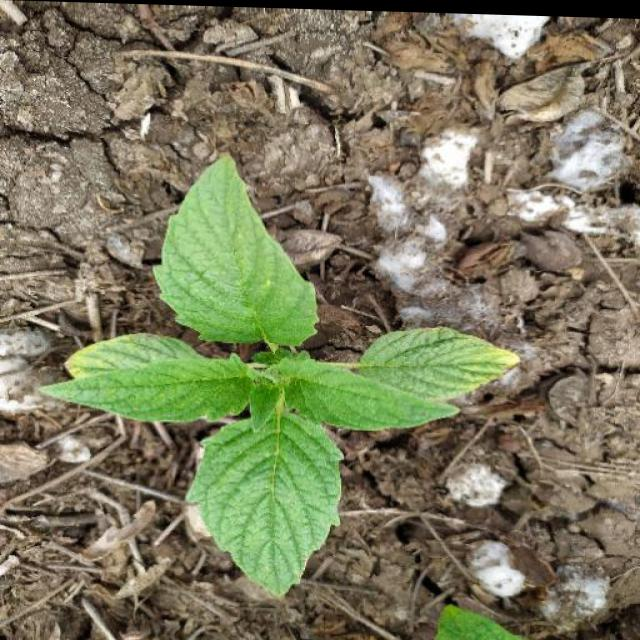crop: (50, 142, 514, 597)
